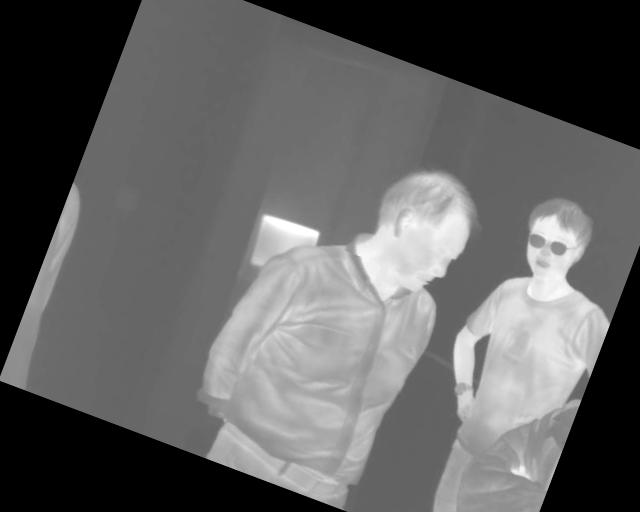face: (354, 152, 494, 306), (509, 187, 602, 289)
